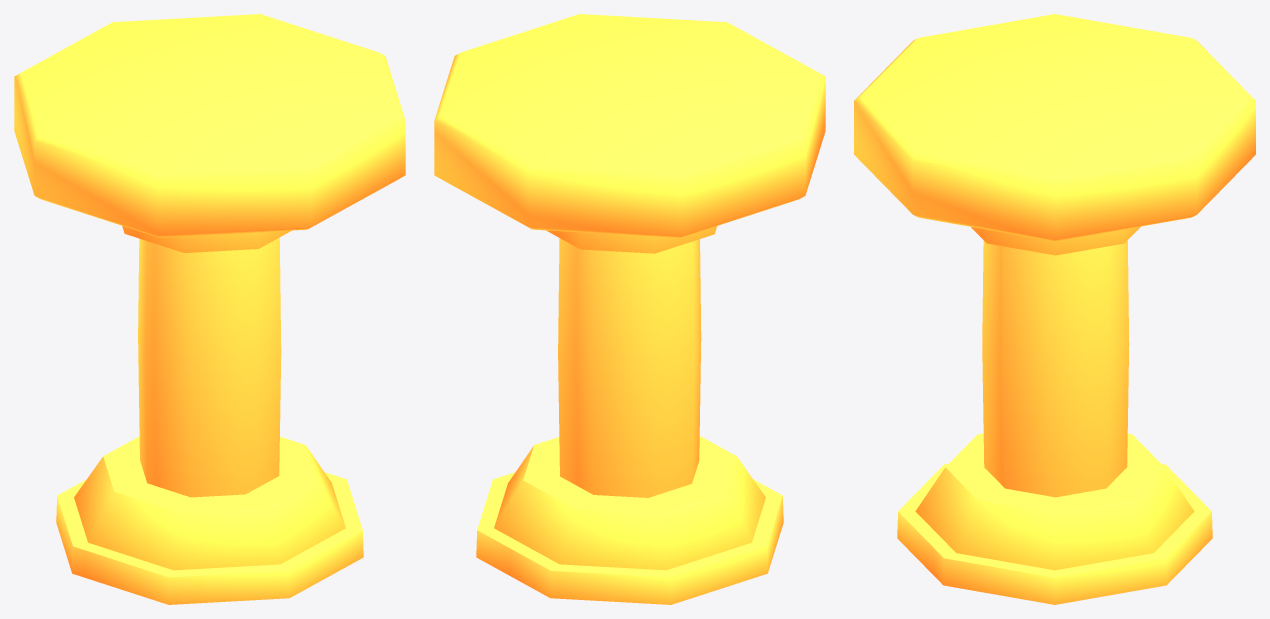
The model's file is gold_grip_018.glb.
3 renders of one model, left to right at view 1: azimuth 30°, elevation 25°; view 2: azimuth 150°, elevation 25°; view 3: azimuth 270°, elevation 25°, orthographic.
Parts seen in each view (by area): view 1: gold_grip_018; view 2: gold_grip_018; view 3: gold_grip_018.
Part boxes in pixels (box(x1,y1,x2,y2)): gold_grip_018: box(14, 14, 405, 604); gold_grip_018: box(434, 14, 825, 604); gold_grip_018: box(854, 14, 1255, 604).
Bounding box in the file's own units: 2.72 × 3.31 × 2.72.
1 material, 1 textured.
